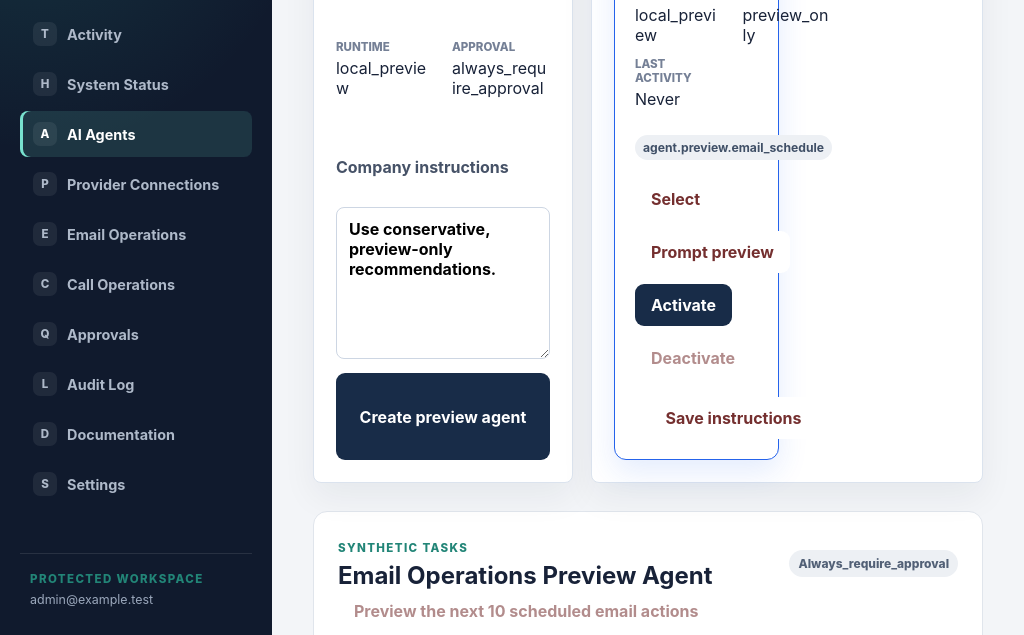
Test: renders AI Agents prompt preview without secrets
This screenshot has width=1024, height=635.
(page scrolled)
Click the button "Prompt preview".
click(712, 252)  # box [635,231,790,273]
(page scrolled)
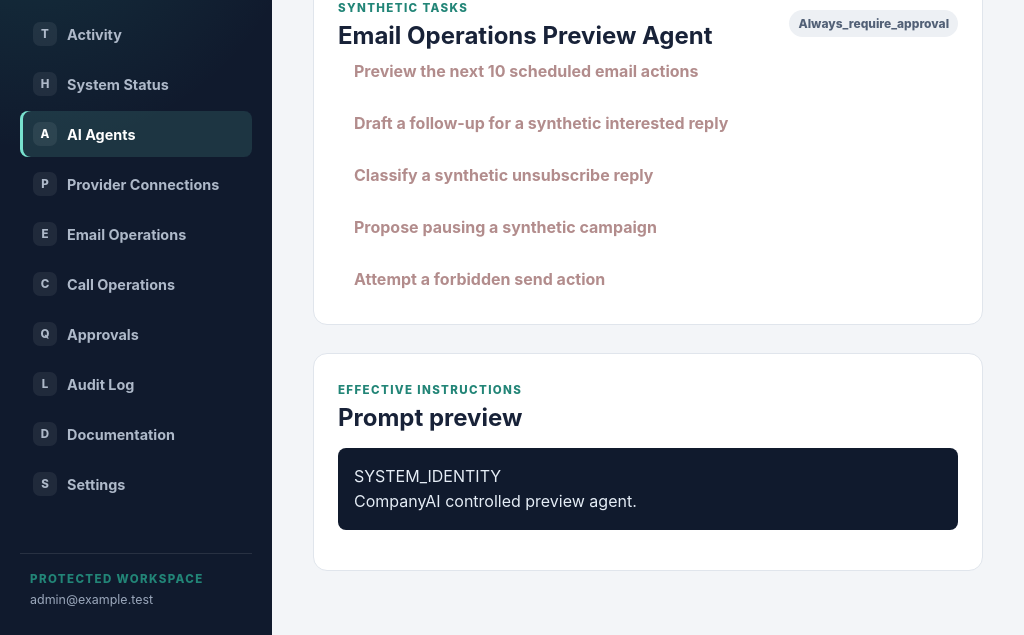
Expected: the heading "Prompt preview" is shown, [338,403,522,432]
Expected: the text "SYSTEM_IDENTITY CompanyAI controlled preview agent." is shown, [338,448,958,530]
